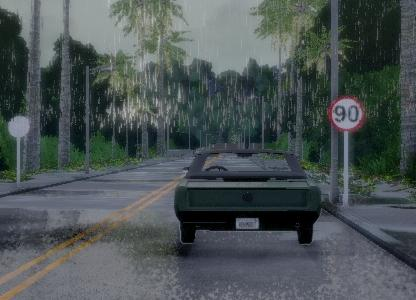Speed_90: (328, 93, 367, 137)
